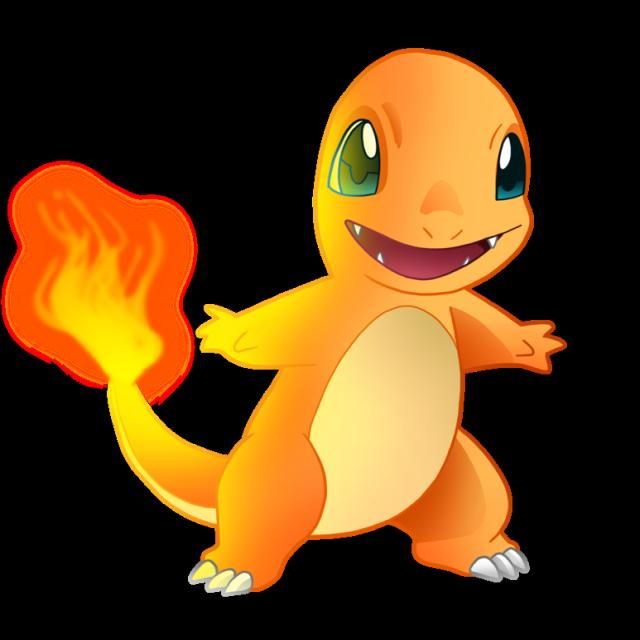Charmander: (234, 51, 535, 592)
